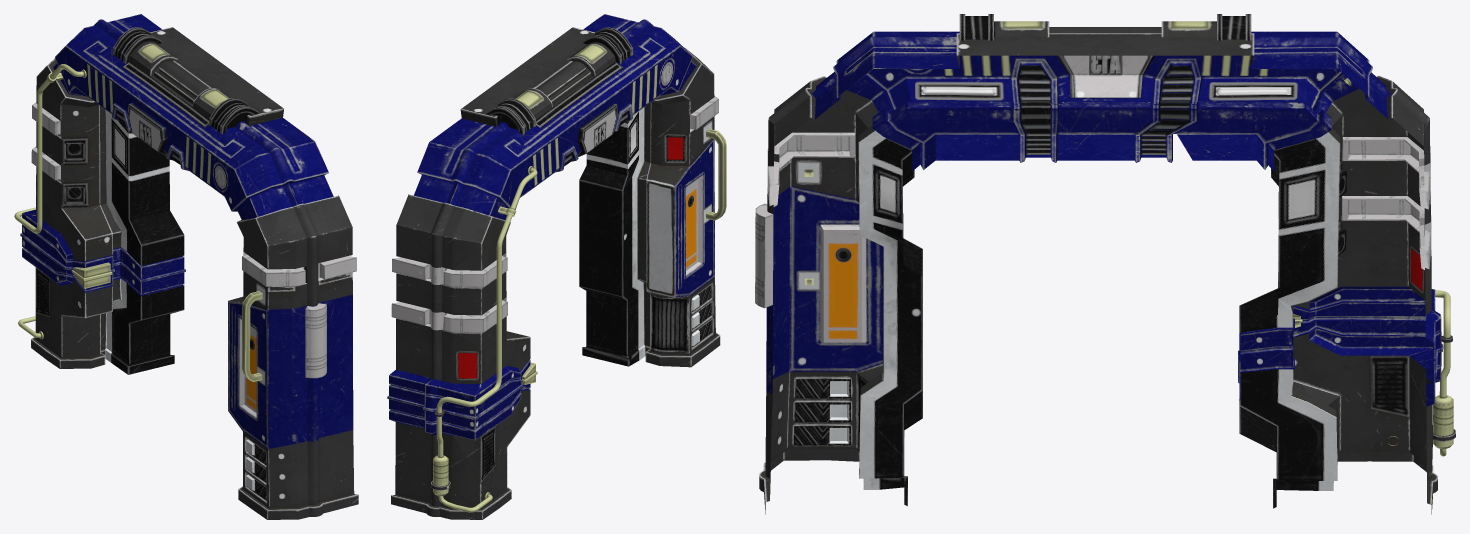
The model's file is DoorTest2.gltf.
The picture shows the model from 3 angles, left to right: view 1: azimuth 30°, elevation 25°; view 2: azimuth 150°, elevation 25°; view 3: azimuth 270°, elevation 25°; orthographic projection. The views are drawn at different scales.
Parts seen in each view (by area): view 1: door_003_01 - Default_0; view 2: door_003_01 - Default_0; view 3: door_003_01 - Default_0.
Boxes of the visible parts, x1,y1,x2,y2 form: door_003_01 - Default_0: [14, 14, 358, 519]; door_003_01 - Default_0: [387, 14, 726, 519]; door_003_01 - Default_0: [755, 14, 1455, 514].
Size of the model in its own units: 6.41 by 20.66 by 27.78.
Materials: 1 (1 with a texture image).
